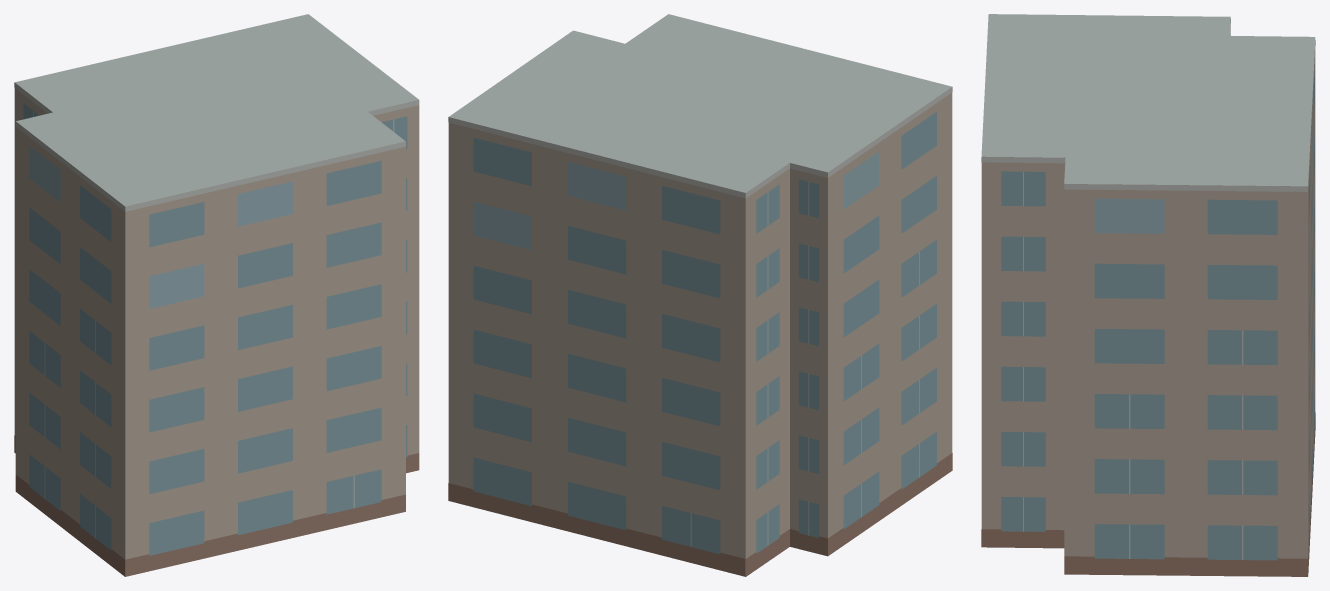
File: survey-upis-32577217.glb
The picture shows the model from 3 angles, left to right: view 1: azimuth 30°, elevation 25°; view 2: azimuth 150°, elevation 25°; view 3: azimuth 270°, elevation 25°; orthographic projection. The views are drawn at different scales.
Parts seen in each view (by area): view 1: survey-upis-32577217.tmp; view 2: survey-upis-32577217.tmp; view 3: survey-upis-32577217.tmp.
Part boxes in pixels (x1=…): survey-upis-32577217.tmp: x1=14, y1=14, x2=419, y2=576; survey-upis-32577217.tmp: x1=448, y1=14, x2=952, y2=576; survey-upis-32577217.tmp: x1=981, y1=14, x2=1315, y2=576.
Bounding box in the file's own units: 16.19 × 17.1 × 13.26.
